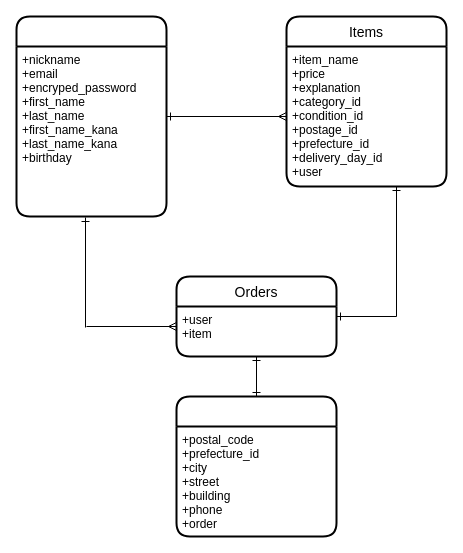
Image size: 463x553. Some labels were removed from this diagram. The box of each missing label's shape, as (x1, y1, x2, y2) in pixels:
Addresses: (175, 395, 337, 537)
Users: (15, 15, 167, 217)
